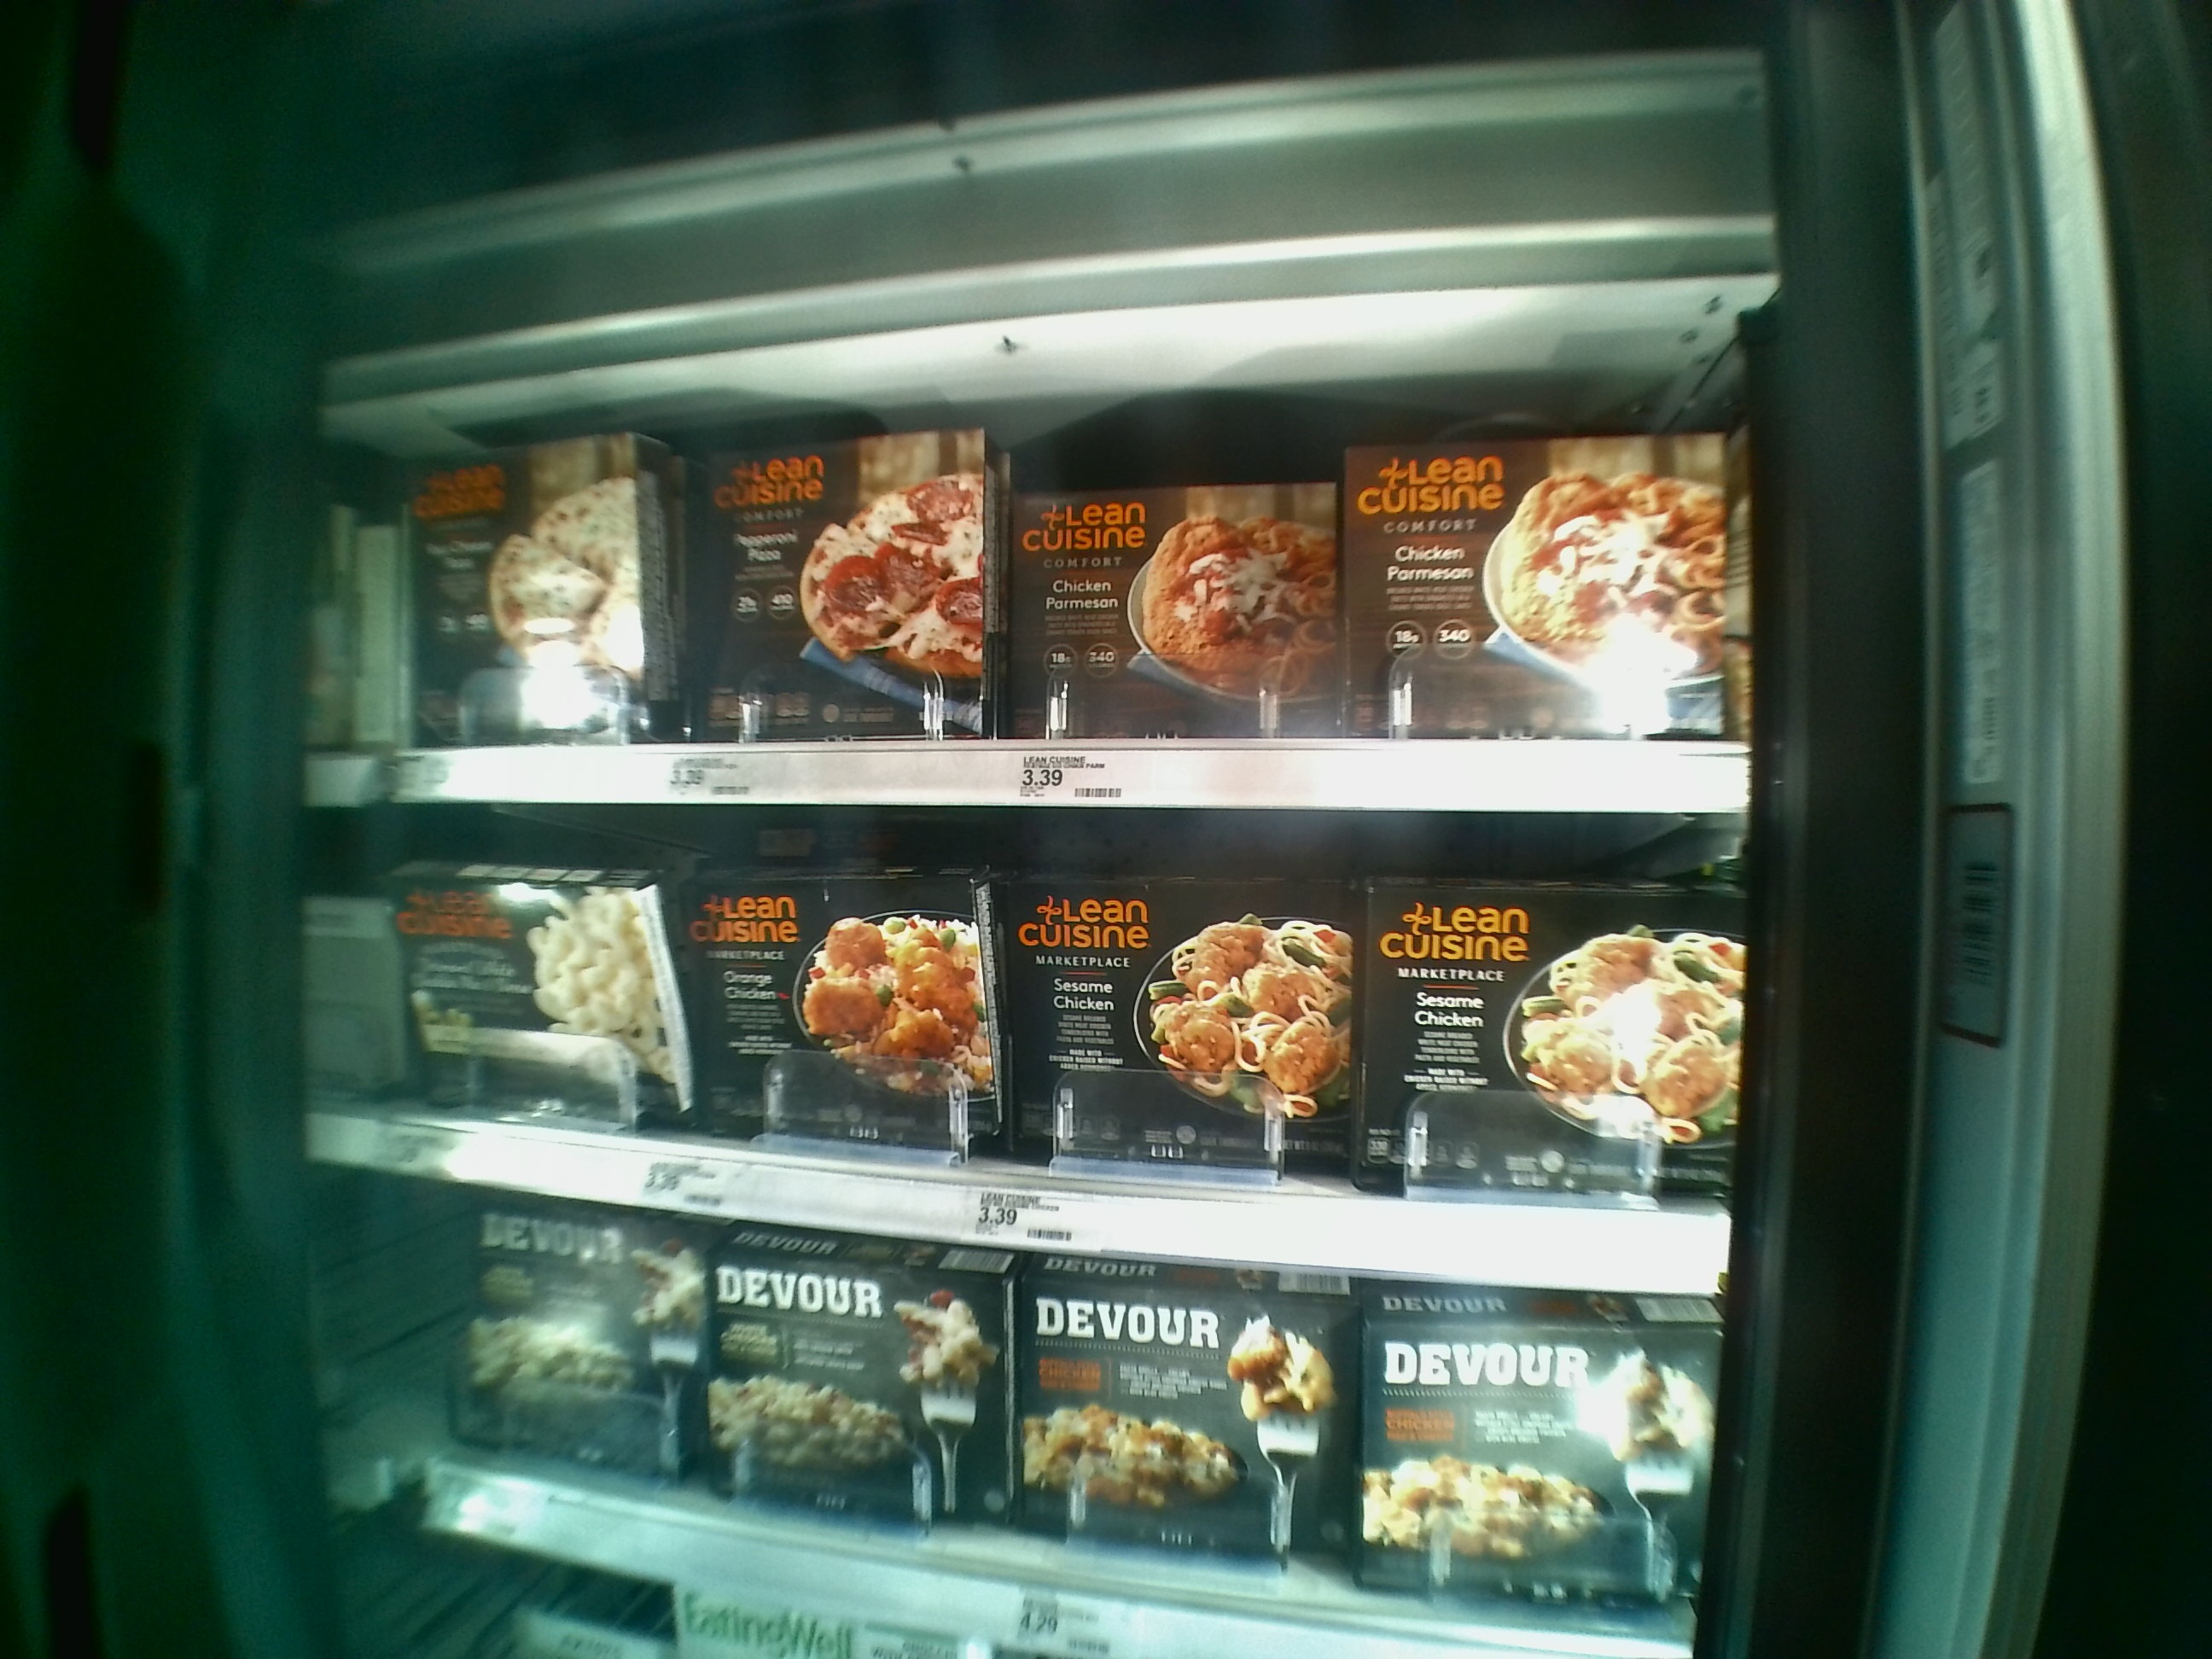shelf: (294, 803, 1737, 1286), (343, 329, 1754, 803)
